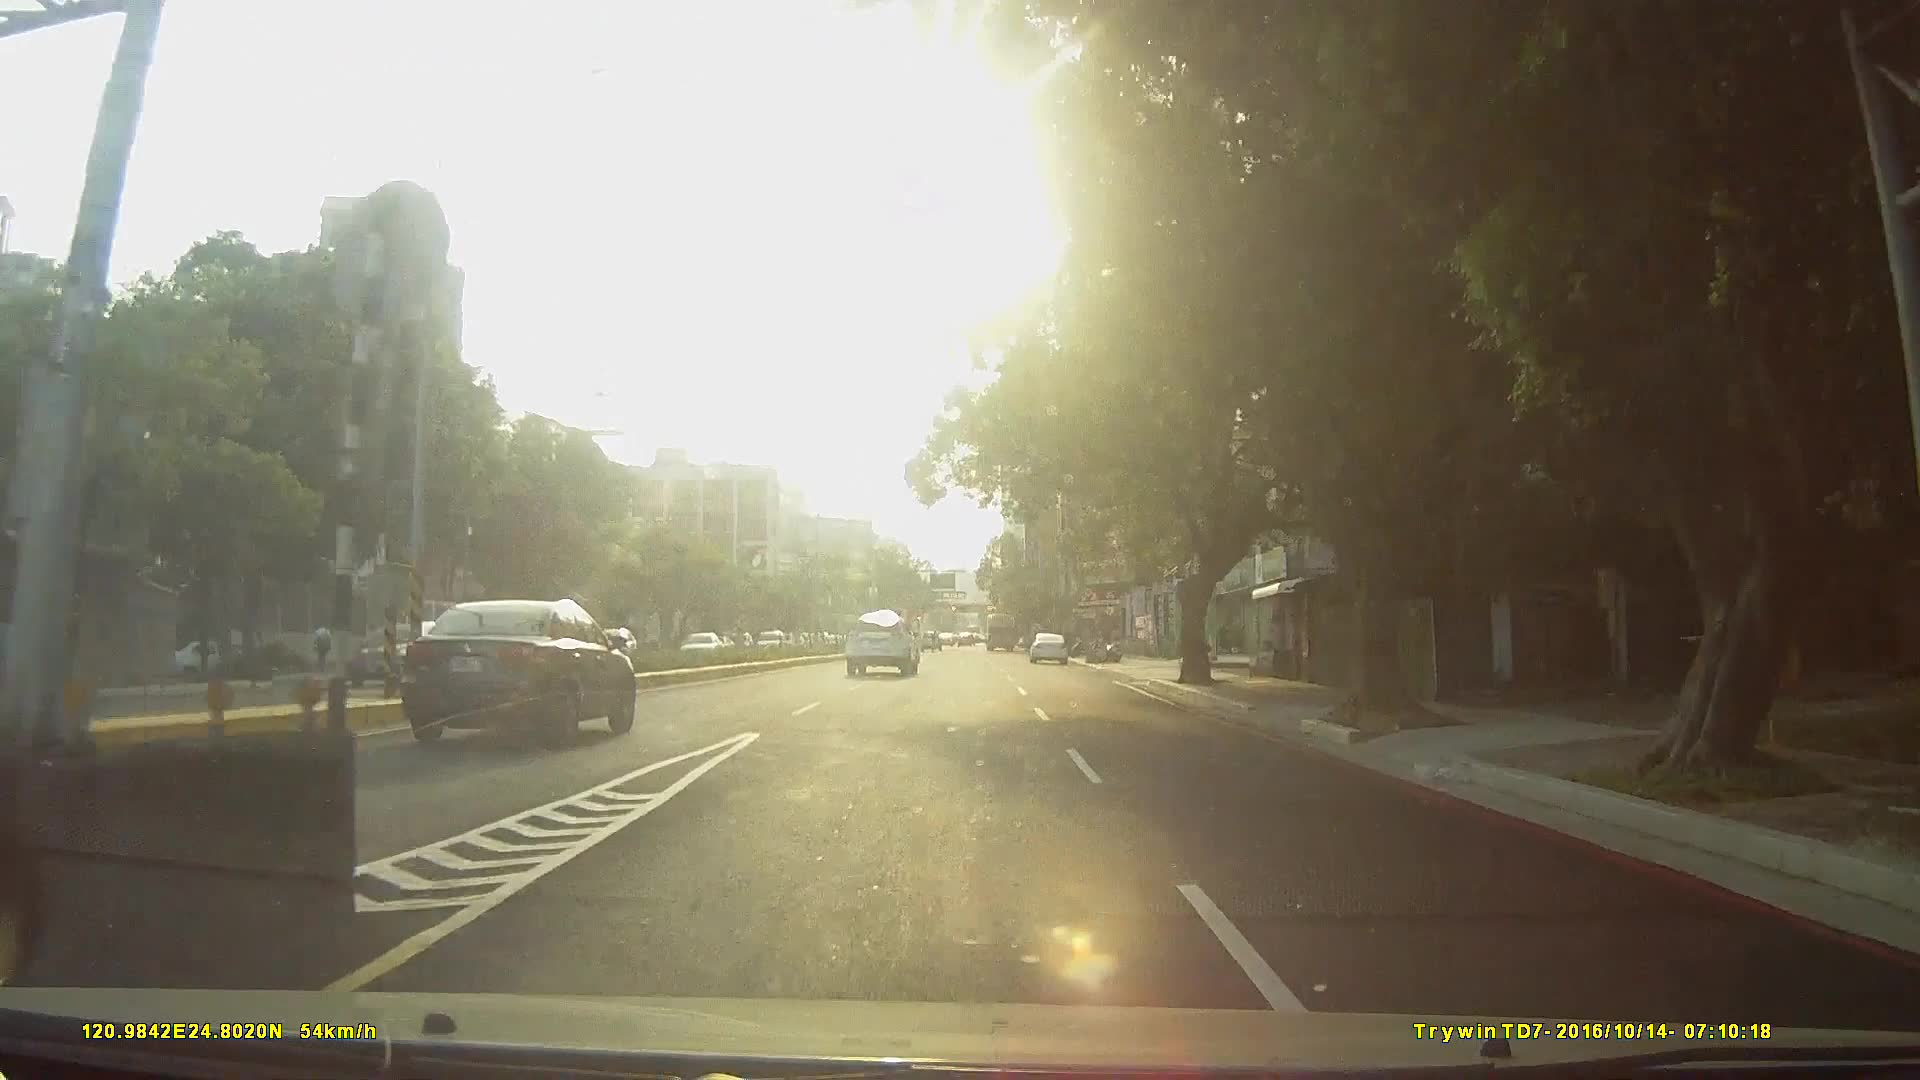pedestrian: (309, 623, 335, 677)
vehicle: (402, 591, 639, 740), (842, 606, 920, 673), (1027, 628, 1070, 665), (982, 608, 1017, 651)
